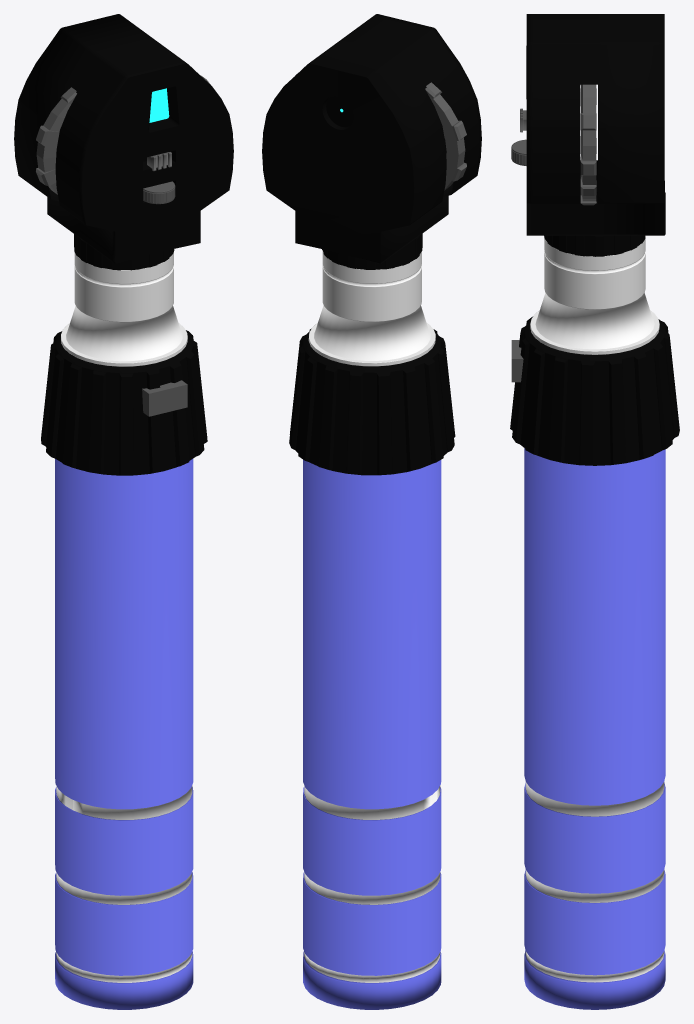
The model's file is optimized-ophthalmoscope.glb.
3 renders of one model, left to right at view 1: azimuth 30°, elevation 25°; view 2: azimuth 150°, elevation 25°; view 3: azimuth 270°, elevation 25°, orthographic.
Visible parts, largest first — view 1: Handle, Head, RheostatPart3, RheostatPart2, MetallicRings, DiopterDial, RheostatPart1, SwitchMaterial, ApertureDial, ViewingWindow; view 2: Handle, Head, RheostatPart3, RheostatPart2, MetallicRings, DiopterDial, RheostatPart1; view 3: Handle, Head, RheostatPart3, RheostatPart2, MetallicRings, DiopterDial, RheostatPart1, SwitchMaterial.
Boxes of the visible parts, x1,y1,x2,y2 form: Handle: (55, 459, 193, 1009); Head: (14, 14, 233, 263); RheostatPart3: (41, 330, 207, 475); RheostatPart2: (61, 252, 187, 366); MetallicRings: (56, 785, 192, 982); DiopterDial: (36, 75, 210, 194); RheostatPart1: (74, 234, 174, 270); SwitchMaterial: (142, 380, 187, 416); ApertureDial: (143, 181, 175, 204); ViewingWindow: (149, 88, 169, 122); Handle: (303, 459, 441, 1009); Head: (262, 14, 481, 263); RheostatPart3: (289, 329, 455, 475); RheostatPart2: (308, 251, 435, 366); MetallicRings: (304, 785, 440, 982); DiopterDial: (295, 74, 466, 190); RheostatPart1: (322, 233, 422, 269); Handle: (524, 448, 665, 1009); Head: (526, 14, 665, 235); RheostatPart3: (510, 316, 679, 465); RheostatPart2: (530, 236, 659, 354); MetallicRings: (525, 782, 664, 982); DiopterDial: (580, 84, 596, 205); RheostatPart1: (544, 235, 645, 256); SwitchMaterial: (511, 340, 523, 382).
Bounding box in the file's own units: 0.9245 × 4.59 × 0.7428.
